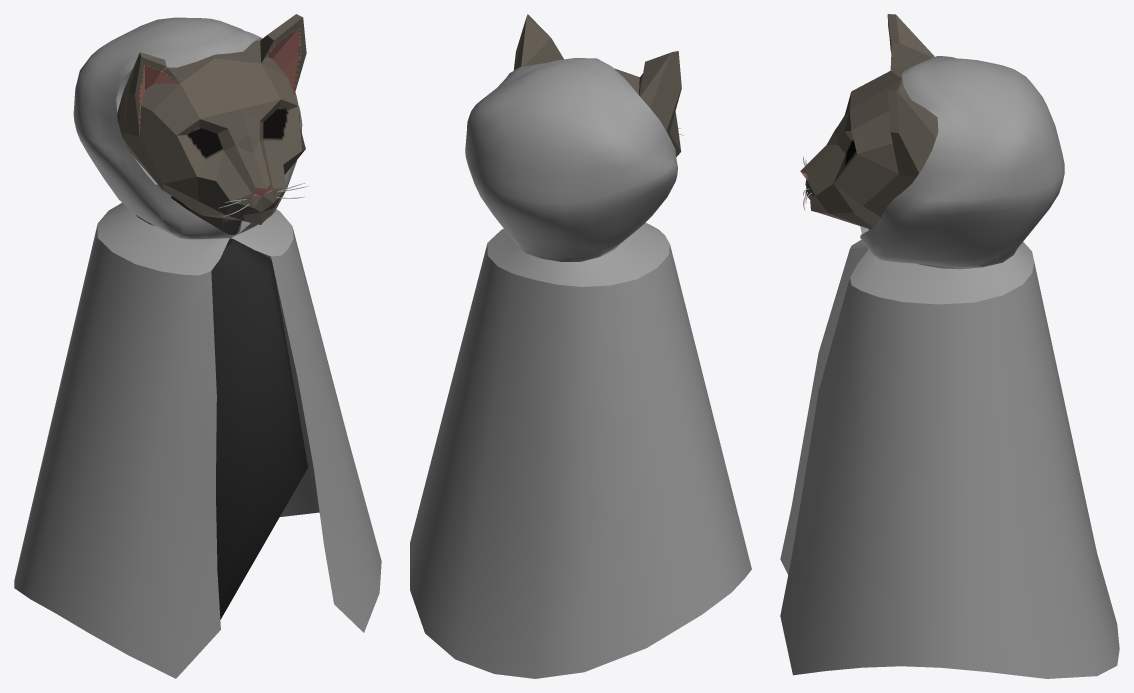
File: Cat Imaginary Friend.fbx
The picture shows the model from 3 angles, left to right: view 1: azimuth 30°, elevation 25°; view 2: azimuth 150°, elevation 25°; view 3: azimuth 270°, elevation 25°; orthographic projection. The views are drawn at different scales.
Parts seen in each view (by area): view 1: conected_and_exported; view 2: conected_and_exported; view 3: conected_and_exported.
Part boxes in pixels (x1=…): conected_and_exported: x1=14, y1=14, x2=381, y2=678; conected_and_exported: x1=410, y1=14, x2=751, y2=678; conected_and_exported: x1=780, y1=14, x2=1119, y2=678.
Bounding box in the file's own units: 83.37 × 146 × 75.22.
Materials: 1 (1 with a texture image).
